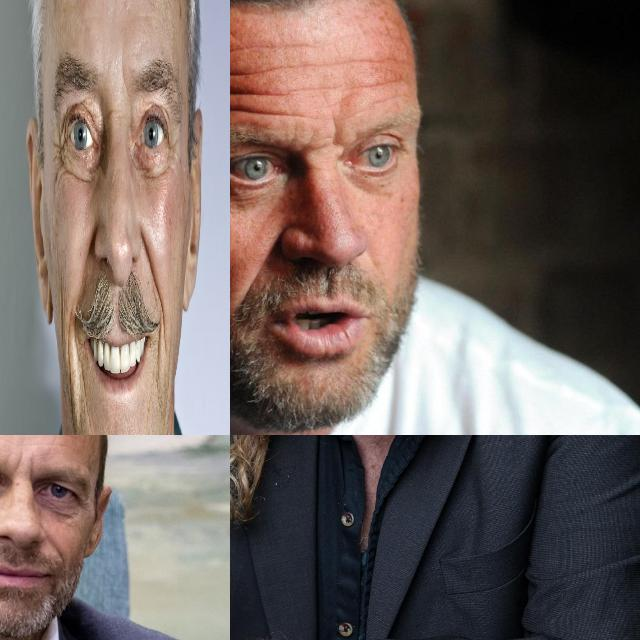crows_feet: (55, 130, 68, 180), (166, 113, 176, 168), (75, 494, 91, 514)
forehead: (230, 101, 282, 122), (268, 55, 316, 77), (369, 72, 401, 96), (352, 49, 388, 70), (230, 83, 254, 102), (230, 63, 251, 84)
frown_line: (326, 118, 346, 164), (14, 450, 34, 480), (120, 54, 126, 86), (105, 103, 114, 122)
gummy_smile: (245, 234, 277, 294), (140, 231, 162, 304), (52, 542, 66, 568), (86, 232, 94, 262)
masseter: (60, 280, 69, 356)
sad_smile: (78, 346, 86, 394), (156, 326, 162, 384)
